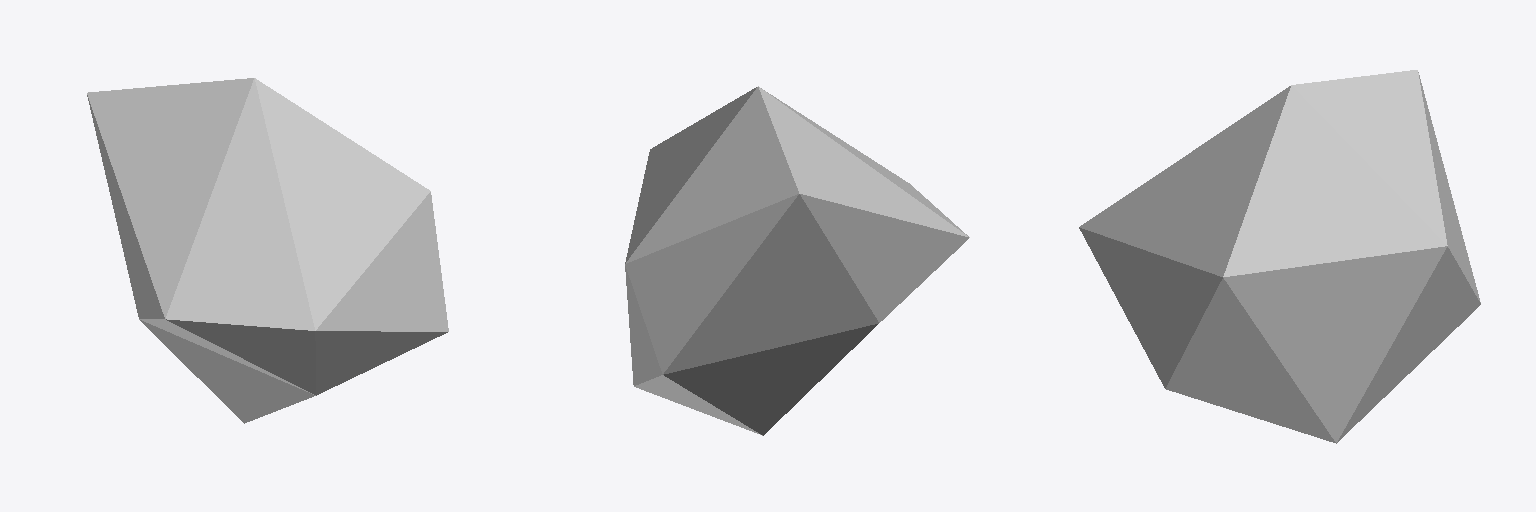
The model's file is impact_particle.obj.
The picture shows the model from 3 angles: view 1: azimuth 30°, elevation 25°; view 2: azimuth 150°, elevation 25°; view 3: azimuth 270°, elevation 25°; orthographic projection.
Visible parts, largest first — view 1: Icosphere; view 2: Icosphere; view 3: Icosphere.
Boxes of the visible parts, x1,y1,x2,y2 form: Icosphere: [87, 78, 448, 423]; Icosphere: [625, 86, 969, 435]; Icosphere: [1079, 70, 1480, 443].
Size of the model in its own units: 0.1456 by 0.1642 by 0.1732.